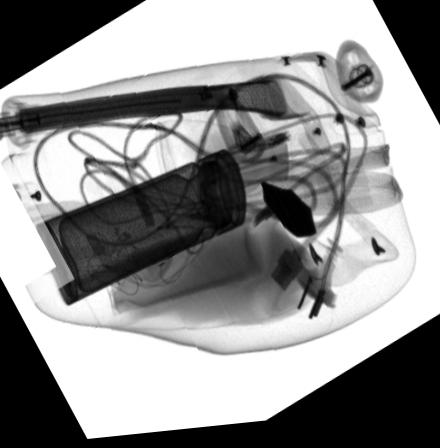Hammer: (152, 187, 317, 283)
